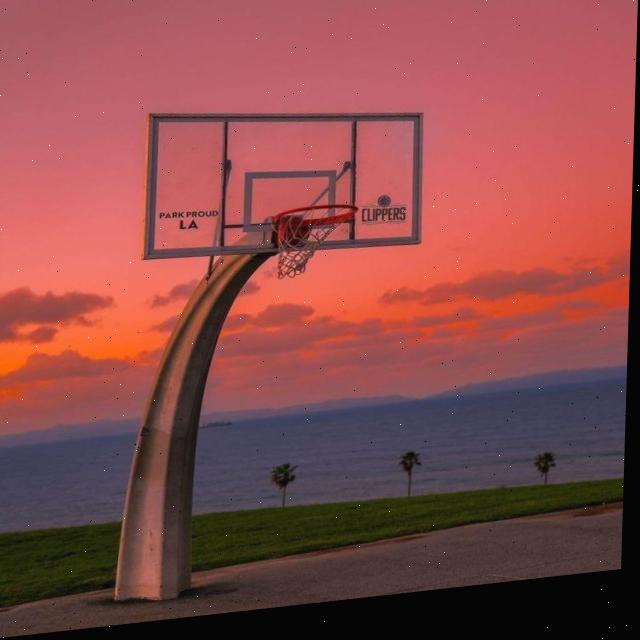hoop: (271, 191, 360, 287)
